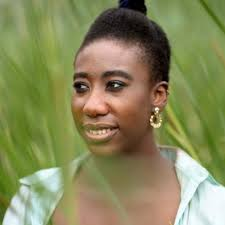no-mask: (67, 22, 177, 166)
